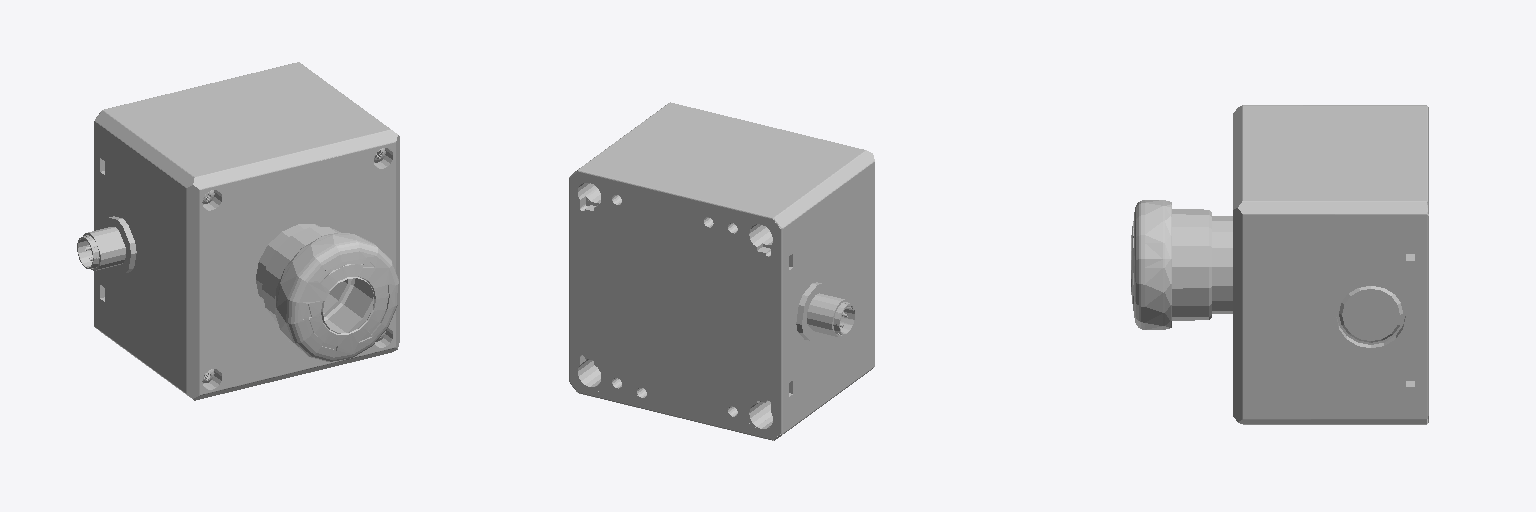
Rendered from AS-Interface EMERGENCY STOP button VAA-2E-F85A-S-V1.obj.
3 views of the same model, side by side, from view 1: azimuth 30°, elevation 25°; view 2: azimuth 150°, elevation 25°; view 3: azimuth 270°, elevation 25° (orthographic).
Bounding box in the file's own units: 88.6 × 75.6 × 91.08.